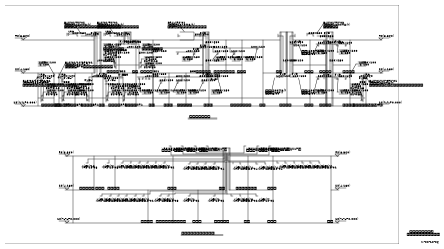corridor: (166, 187, 222, 204), (166, 204, 222, 213), (166, 178, 222, 187)
door: (362, 187, 370, 187)
room: (302, 22, 367, 91), (77, 22, 161, 56), (124, 56, 189, 88), (189, 56, 245, 87), (267, 152, 291, 213), (230, 152, 267, 178), (161, 22, 189, 56), (274, 22, 302, 56), (189, 22, 217, 55), (245, 22, 274, 52), (274, 56, 302, 87), (217, 22, 245, 52), (77, 56, 100, 91), (100, 56, 124, 88), (291, 178, 310, 213), (388, 143, 407, 178), (253, 56, 274, 85), (204, 152, 230, 174), (108, 187, 129, 213), (60, 152, 79, 178), (343, 152, 362, 178), (79, 152, 98, 178), (37, 152, 56, 178), (343, 187, 362, 213), (110, 152, 129, 178), (129, 152, 148, 178), (325, 187, 343, 213), (370, 187, 388, 213), (148, 152, 166, 178), (370, 152, 388, 178), (230, 187, 248, 213), (185, 152, 204, 174), (166, 152, 185, 174), (248, 187, 267, 204), (129, 187, 148, 204), (148, 187, 166, 204), (108, 178, 129, 187), (248, 204, 267, 213), (248, 178, 267, 187), (343, 178, 362, 187), (129, 178, 148, 187), (148, 204, 166, 213), (325, 178, 343, 187), (148, 178, 166, 187), (370, 178, 388, 187), (230, 178, 248, 187)
window: (214, 197, 235, 217)
